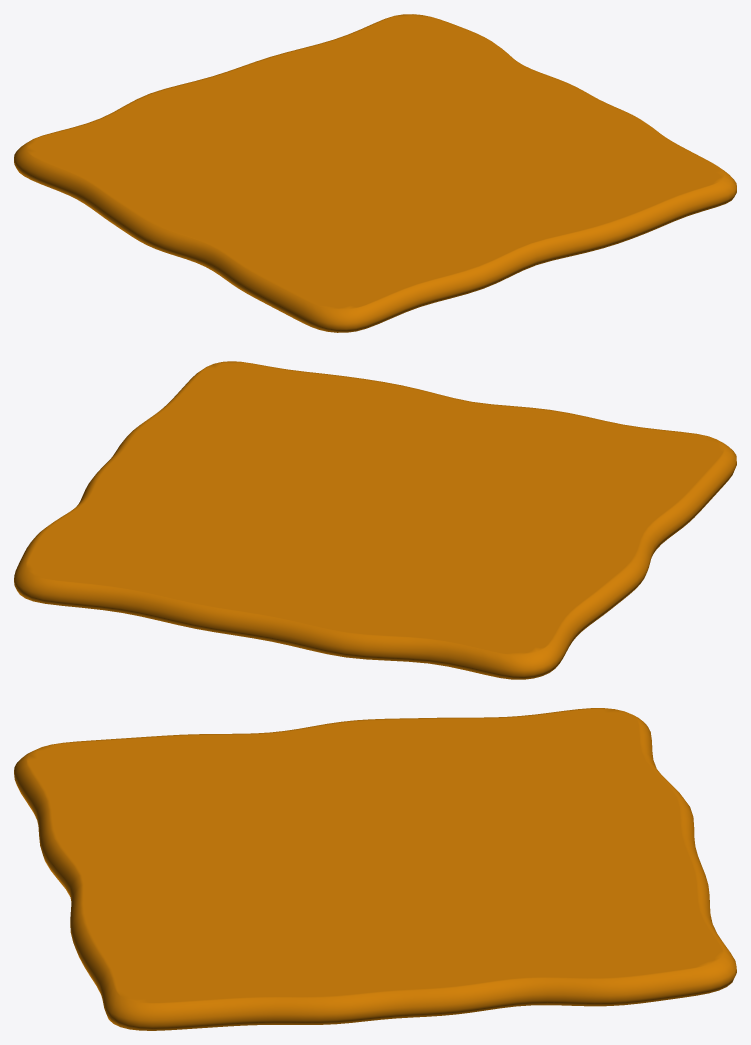
The model's file is testmodelsCube_062.fbx.
3 views of the same model, one above another, from view 1: azimuth 30°, elevation 25°; view 2: azimuth 150°, elevation 25°; view 3: azimuth 270°, elevation 25° (orthographic). The views are drawn at different scales.
Visible parts, largest first — view 1: Cube.062; view 2: Cube.062; view 3: Cube.062.
Part boxes in pixels (x1,y1,x2,y2): Cube.062: (14,14,736,332); Cube.062: (14,361,736,679); Cube.062: (14,708,736,1030).
Size of the model in its own units: 792 by 27.73 by 791.
